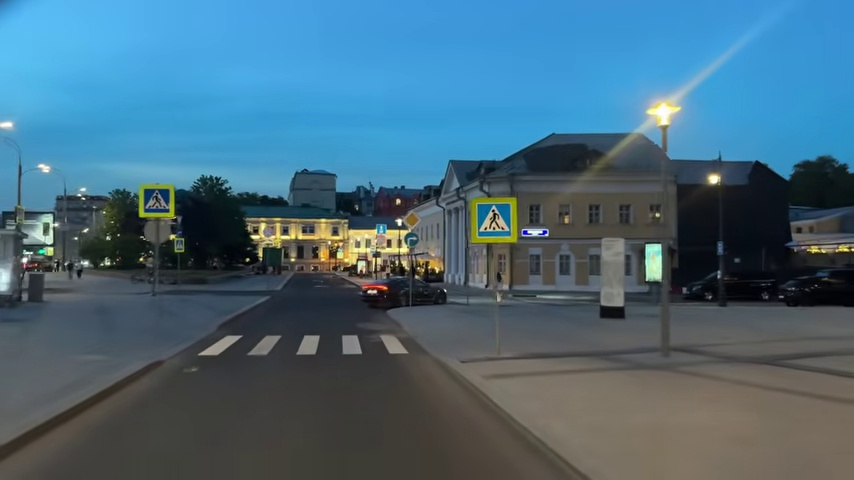acesa: (649, 100, 677, 128), (36, 162, 52, 177), (0, 118, 13, 132)
